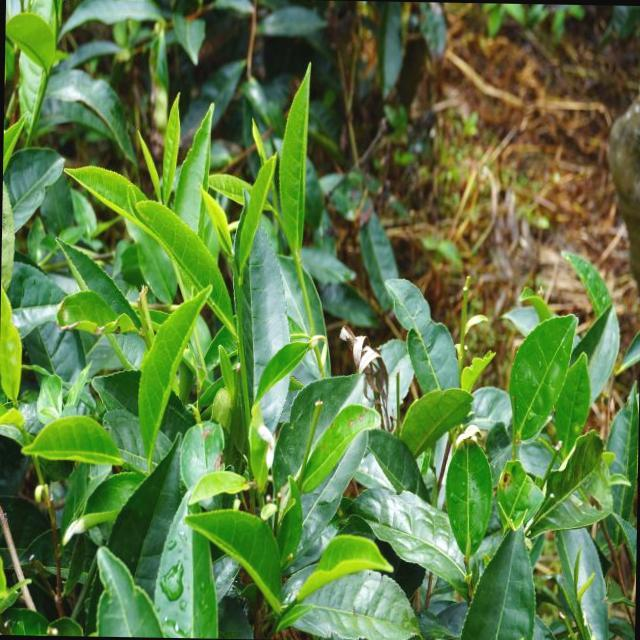Stem: (235, 280, 243, 291)
